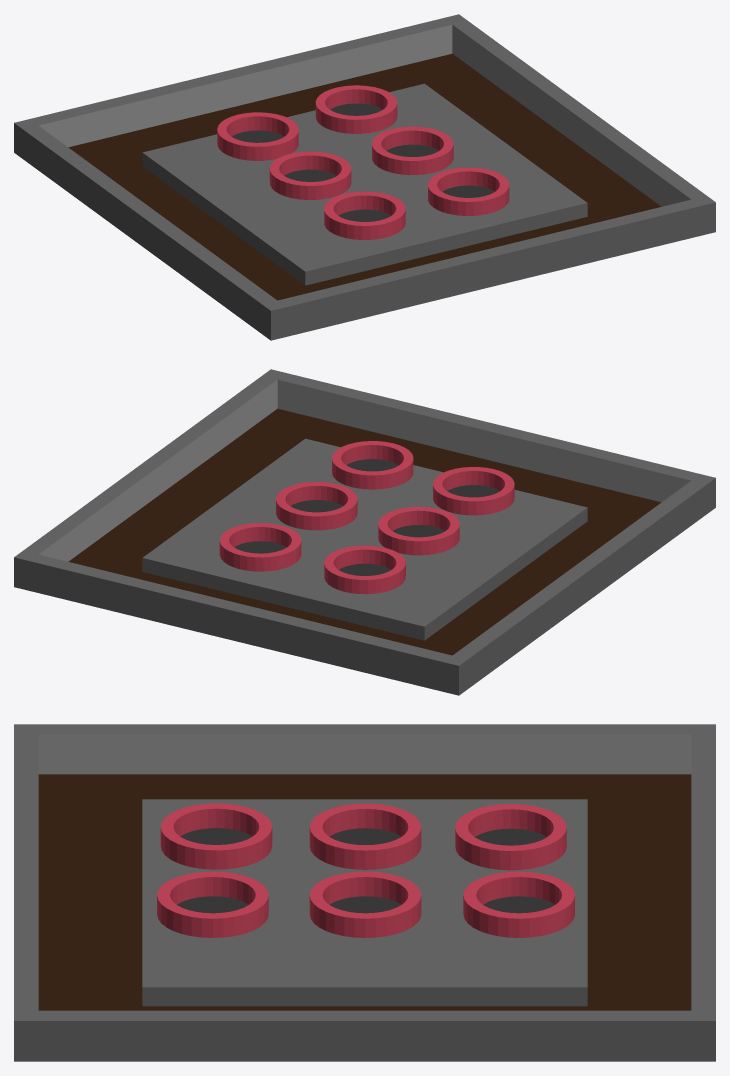
Rendered from ShootingTrap.fbx.
3 renders of one model, top to bottom at view 1: azimuth 30°, elevation 25°; view 2: azimuth 150°, elevation 25°; view 3: azimuth 270°, elevation 25°, orthographic. The views are drawn at different scales.
Parts seen in each view (by area): view 1: Circle.001; view 2: Circle.001; view 3: Circle.001.
Boxes of the visible parts, box(x1,y1,x2,y2) form: Circle.001: box(14, 14, 715, 340); Circle.001: box(14, 369, 715, 695); Circle.001: box(14, 724, 715, 1061).
Bounding box in the file's own units: 200 × 15.78 × 200.
